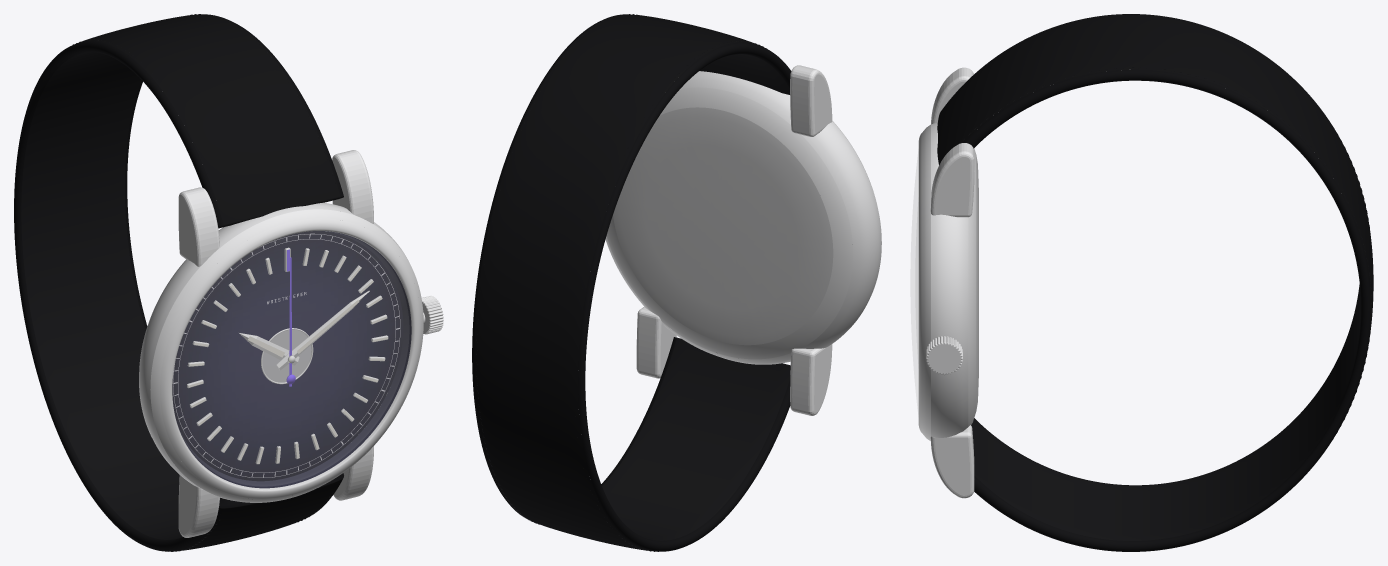
Rendered from watch.glb.
The picture shows the model from 3 angles, left to right: view 1: azimuth 30°, elevation 25°; view 2: azimuth 150°, elevation 25°; view 3: azimuth 270°, elevation 25°; orthographic projection.
Visible parts, largest first — view 1: strap, crystal, dial, bezel, top_bevel, flank, flange, lug, lug.002, lug.003, track, centre (+3 smaller); view 2: strap, caseback, back_bevel, flank, lug, lug.003, lug.001; view 3: strap, flank, lug.002, top_bevel, lug.001, back_bevel, bezel, crystal, crown, lug, caseback.
Boxes of the visible parts, x1=… form: strap: x1=14, y1=14, x2=343, y2=551; crystal: x1=172, y1=231, x2=409, y2=486; dial: x1=172, y1=231, x2=403, y2=481; bezel: x1=160, y1=218, x2=421, y2=499; top_bevel: x1=150, y1=209, x2=423, y2=502; flank: x1=139, y1=202, x2=408, y2=500; flange: x1=176, y1=231, x2=411, y2=488; lug: x1=178, y1=187, x2=219, y2=266; lug.002: x1=332, y1=150, x2=373, y2=223; lug.003: x1=178, y1=475, x2=219, y2=537; track: x1=173, y1=233, x2=400, y2=477; centre: x1=262, y1=329, x2=311, y2=382; strap: x1=472, y1=14, x2=791, y2=551; caseback: x1=613, y1=107, x2=833, y2=345; back_bevel: x1=606, y1=87, x2=852, y2=359; flank: x1=605, y1=71, x2=881, y2=364; lug: x1=790, y1=65, x2=832, y2=136; lug.003: x1=790, y1=344, x2=832, y2=415; lug.001: x1=636, y1=306, x2=676, y2=378; strap: x1=937, y1=14, x2=1373, y2=551; flank: x1=931, y1=123, x2=968, y2=437; lug.002: x1=930, y1=143, x2=974, y2=217; top_bevel: x1=923, y1=124, x2=930, y2=441; lug.001: x1=930, y1=425, x2=974, y2=498; back_bevel: x1=968, y1=148, x2=976, y2=426; bezel: x1=918, y1=131, x2=923, y2=434; crystal: x1=910, y1=152, x2=918, y2=413; crown: x1=926, y1=336, x2=962, y2=375; lug: x1=931, y1=67, x2=973, y2=124; caseback: x1=976, y1=155, x2=978, y2=410.
Bounding box in the file's own units: 2.12 × 3.35 × 2.89.
Materials: 15 (1 with a texture image).
